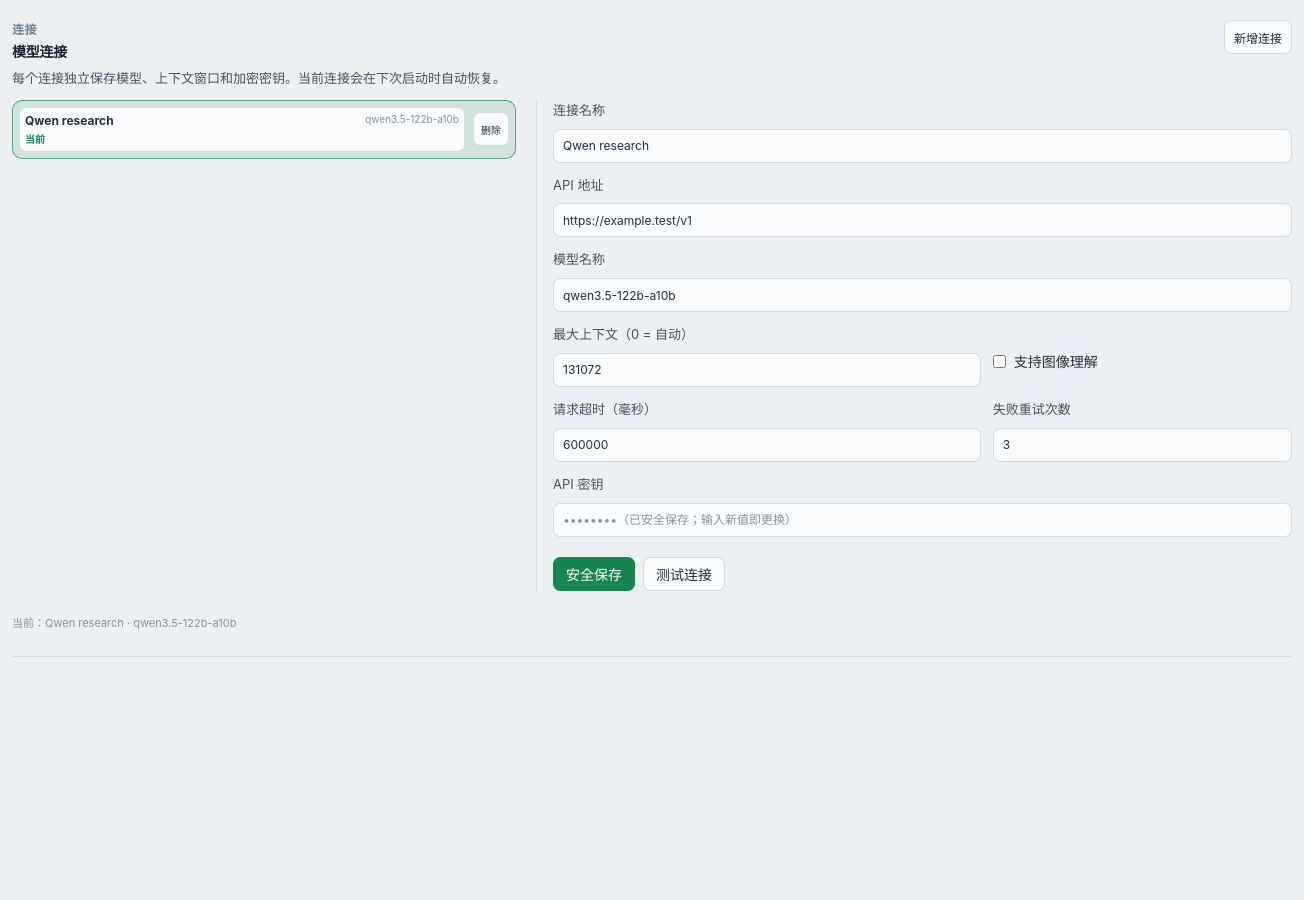
Test: ProviderProfilesSection › cannot delete the active connection without switching first
Step 1. Click the button with aria-label "删除 Qwen research" → x=491, y=129, box [473,112,509,146]
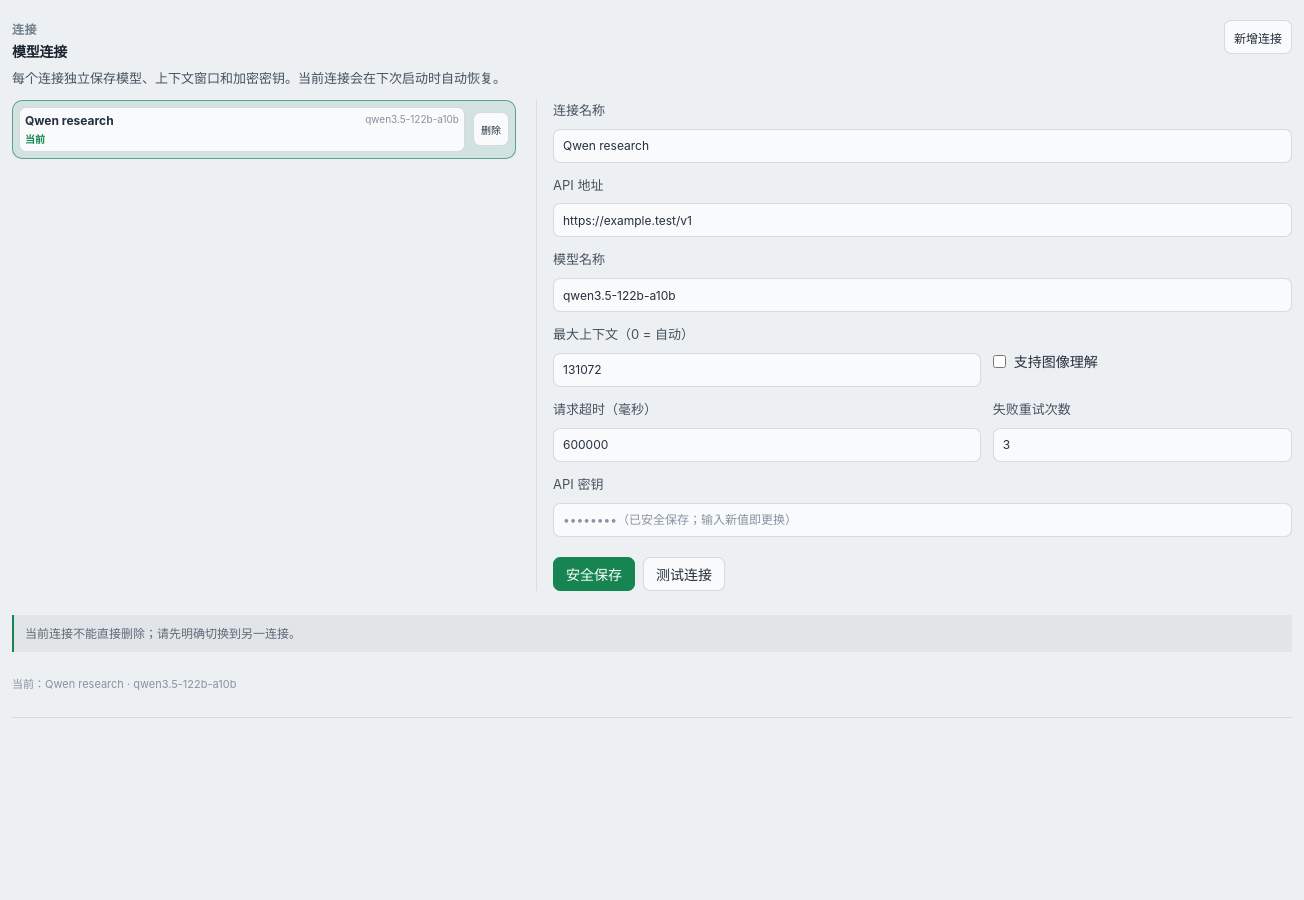
Check: the message shows "当前连接不能直接删除", box [25,626,301,640]
